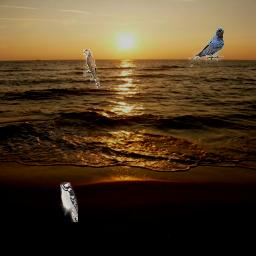Cuckoo: (83, 49, 100, 89)
Swallow: (188, 27, 224, 67)
Woodpecker: (60, 182, 78, 222)
